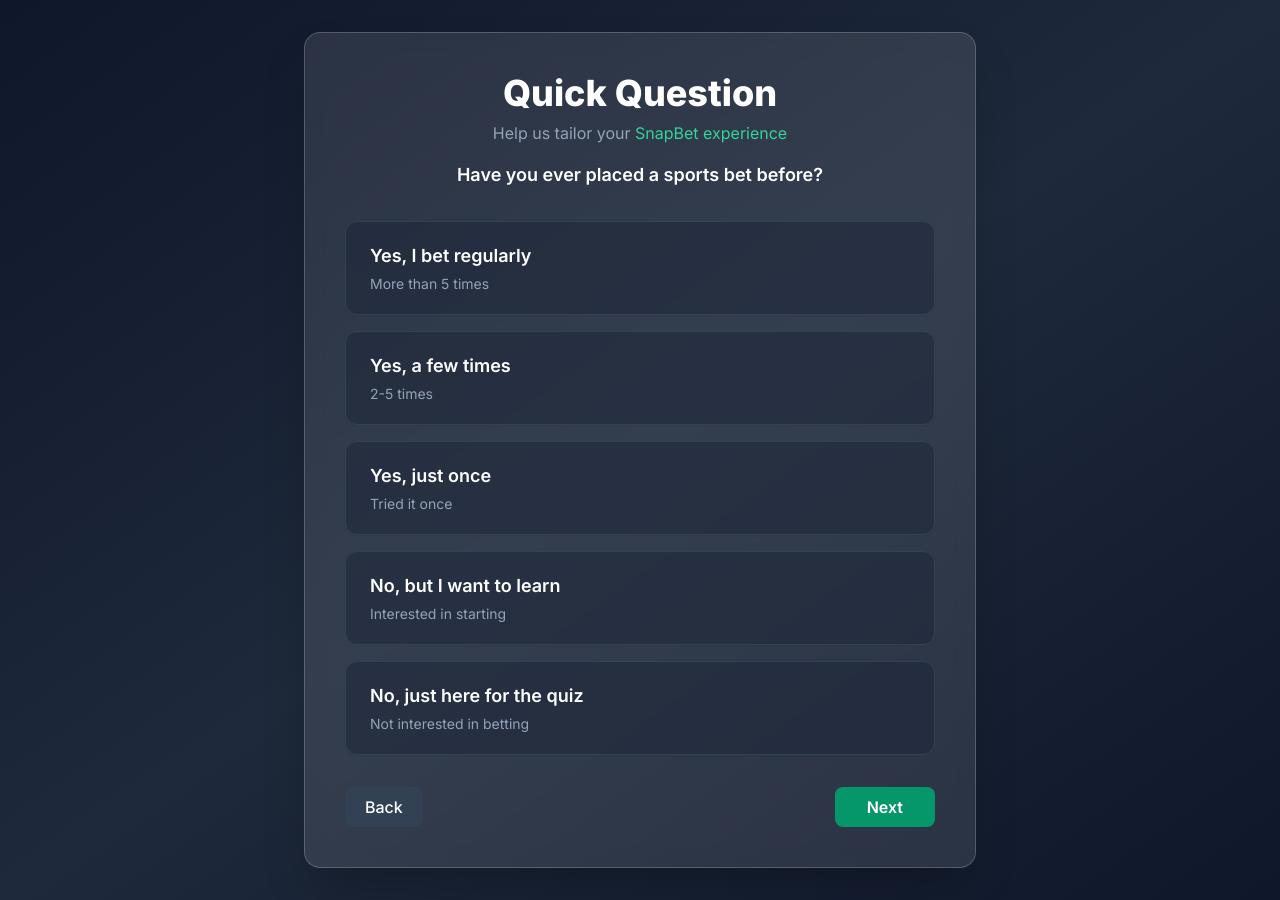
Test case: Quiz Components › QuizExperience › shows error when no option is selected
# Try to submit without selection
Click the button "Next" at (885, 807), box x1=835 y1=787 x2=935 y2=827
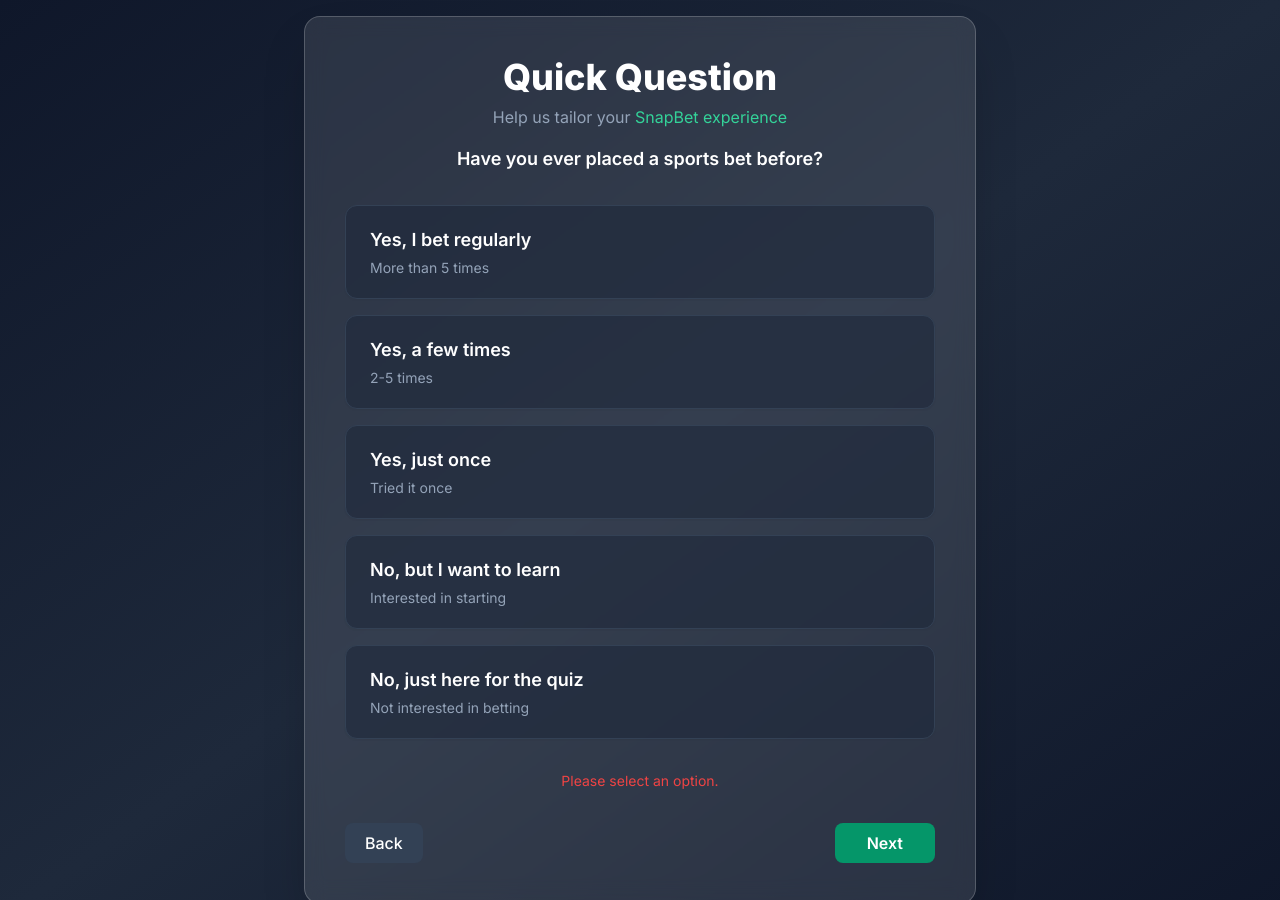
Now the text "Please select an option." is shown, box x1=561 y1=772 x2=719 y2=789
